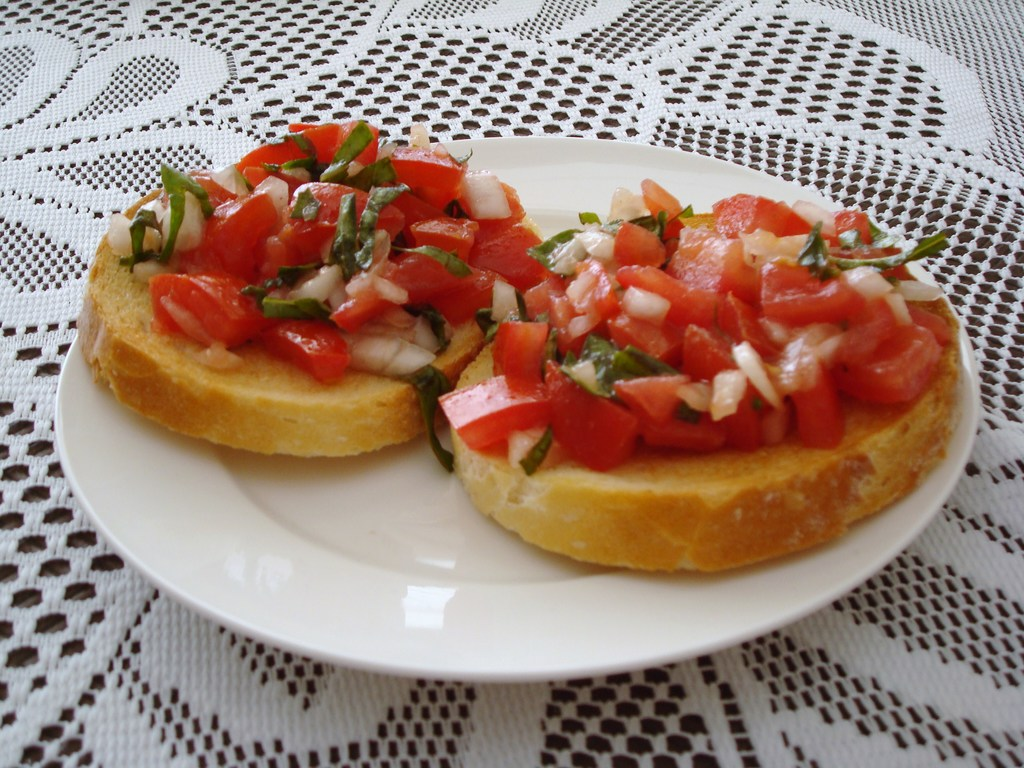Tomato: (148, 120, 951, 471)
